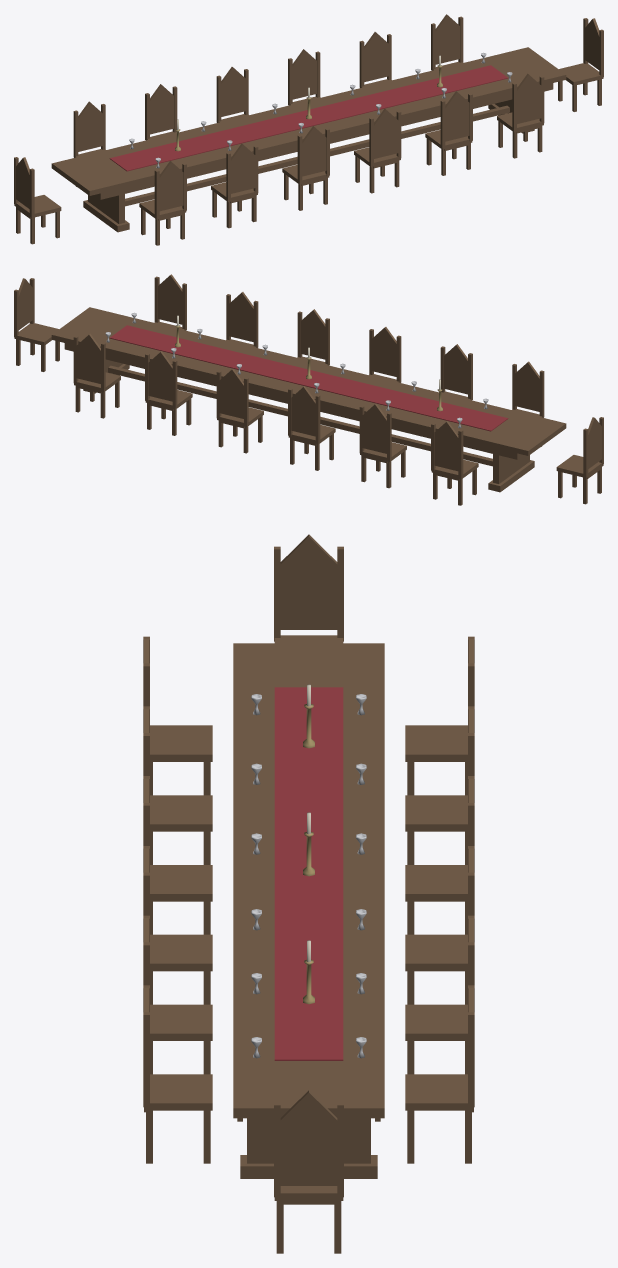
The model's file is BanquetTable.fbx.
3 views of the same model, one above another, from view 1: azimuth 30°, elevation 25°; view 2: azimuth 150°, elevation 25°; view 3: azimuth 270°, elevation 25° (orthographic). The views are drawn at different scales.
Parts seen in each view (by area): view 1: BanquetTable; view 2: BanquetTable; view 3: BanquetTable.
Part boxes in pixels (x1,y1,x2,y2): BanquetTable: (14,14,603,245); BanquetTable: (14,274,603,505); BanquetTable: (143,534,474,1253).
Size of the model in its own units: 9.61 by 1.3 by 2.41.
